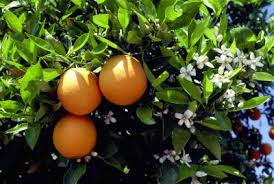orange: (98, 55, 146, 106), (53, 65, 101, 115), (51, 110, 98, 158)
